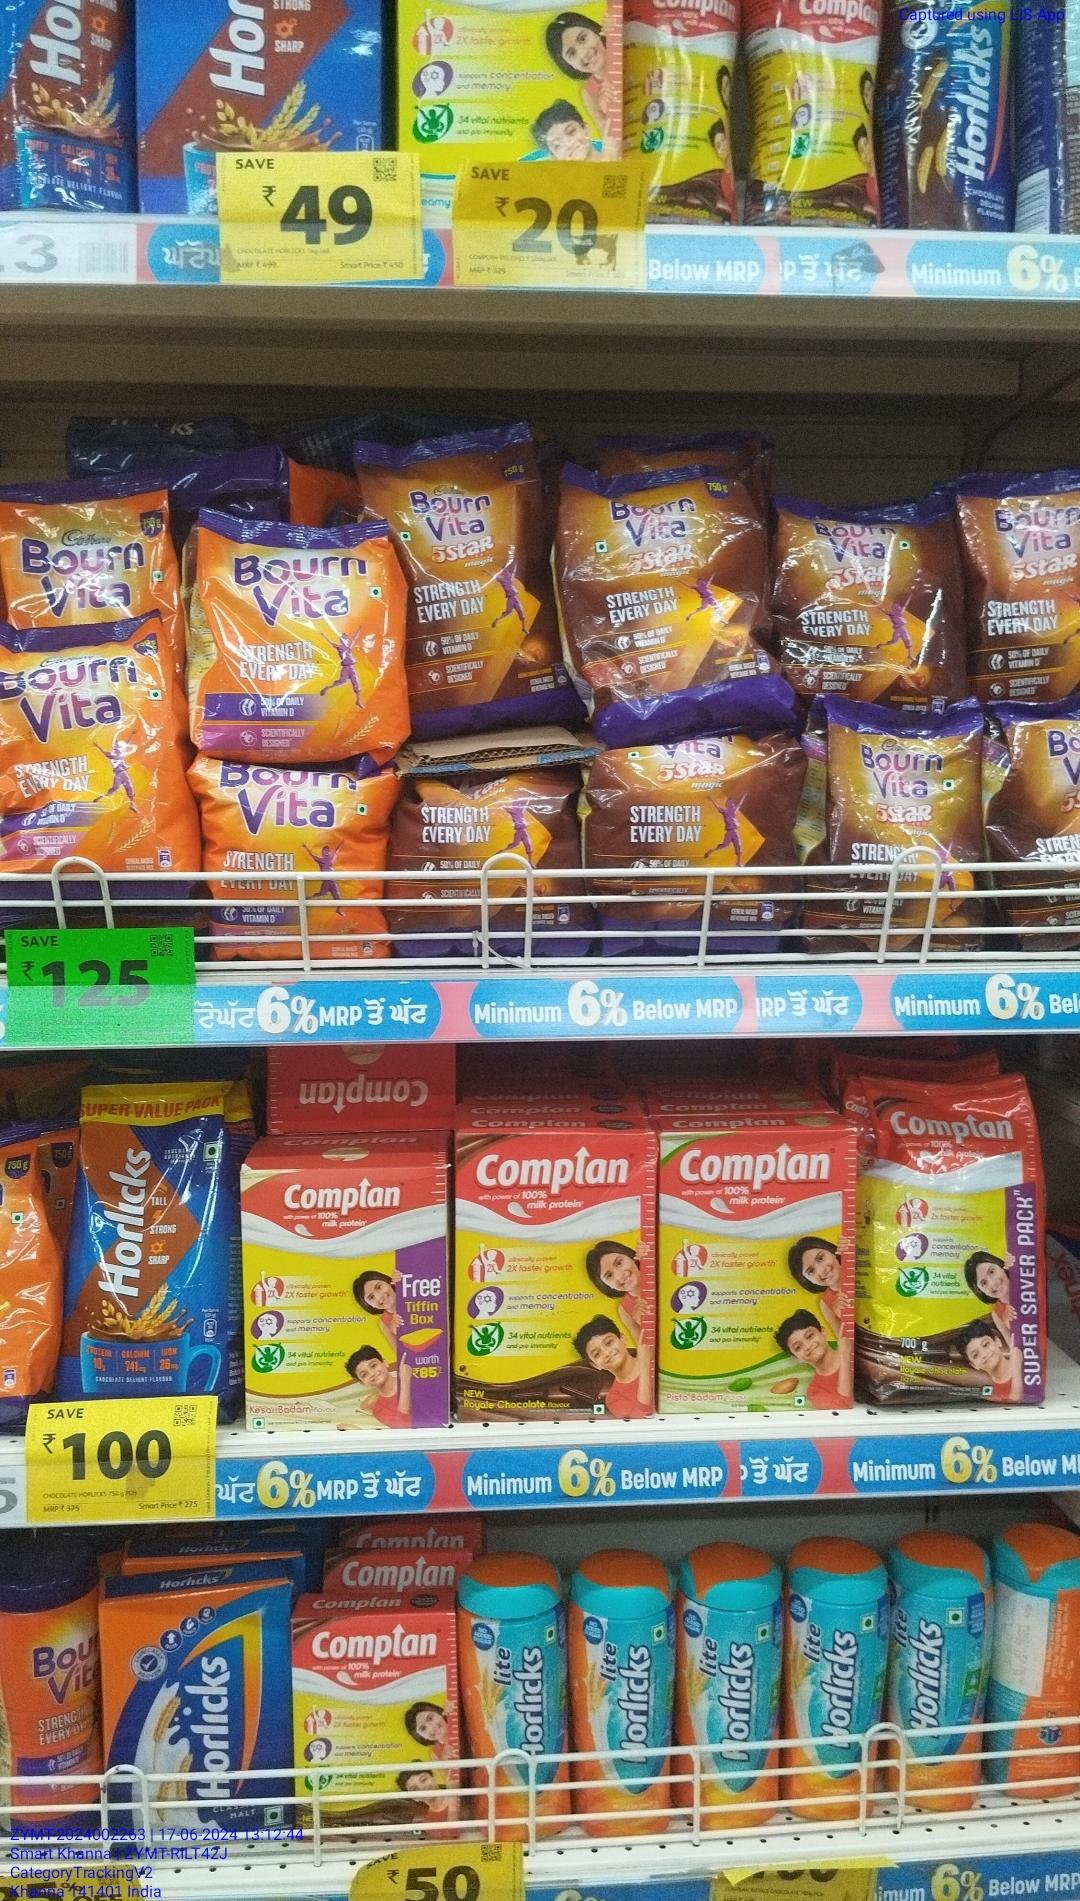BOURN_VITA_500_G_JAR: (0, 1582, 94, 1842)
BOURN_VITA_500_G_POUCH: (193, 507, 413, 753), (197, 768, 384, 970)
BOURN_VITA_750_G_POUCH: (3, 619, 178, 906)
BOURN_VITA_FIVE_STAR_MAGIC_500_G_POUCH: (588, 748, 782, 950), (833, 700, 979, 952), (394, 768, 576, 960)
BOURN_VITA_FIVE_STAR_MAGIC_750_G_POUCH: (572, 471, 784, 729), (426, 423, 559, 729), (797, 511, 959, 688)
COMPLAN_CHOCOLATE_500_GMS_PACK: (457, 1136, 661, 1417), (295, 1616, 460, 1841)
COMPLAN_KESAR_BADAM_500_GMS_PACK: (243, 1165, 451, 1431)
COMPLAN_PISTA_BADAM_500_GMS_PACK: (666, 1135, 853, 1411)
COMPLAN_RC_POUCH_700_GMS_12: (865, 1073, 1045, 1417)
HORLICKS_LITE_REGULAR_MALT_500_GM_JAR: (465, 1568, 571, 1837), (676, 1564, 782, 1827), (891, 1542, 991, 1814), (576, 1576, 671, 1838), (790, 1558, 879, 1828)
HORLICK_CHOCOLATE_750_G_POUCH: (63, 1084, 230, 1389)
HORLICK_CLASSIC_MALT_500_G_PACK: (102, 1595, 289, 1844)
